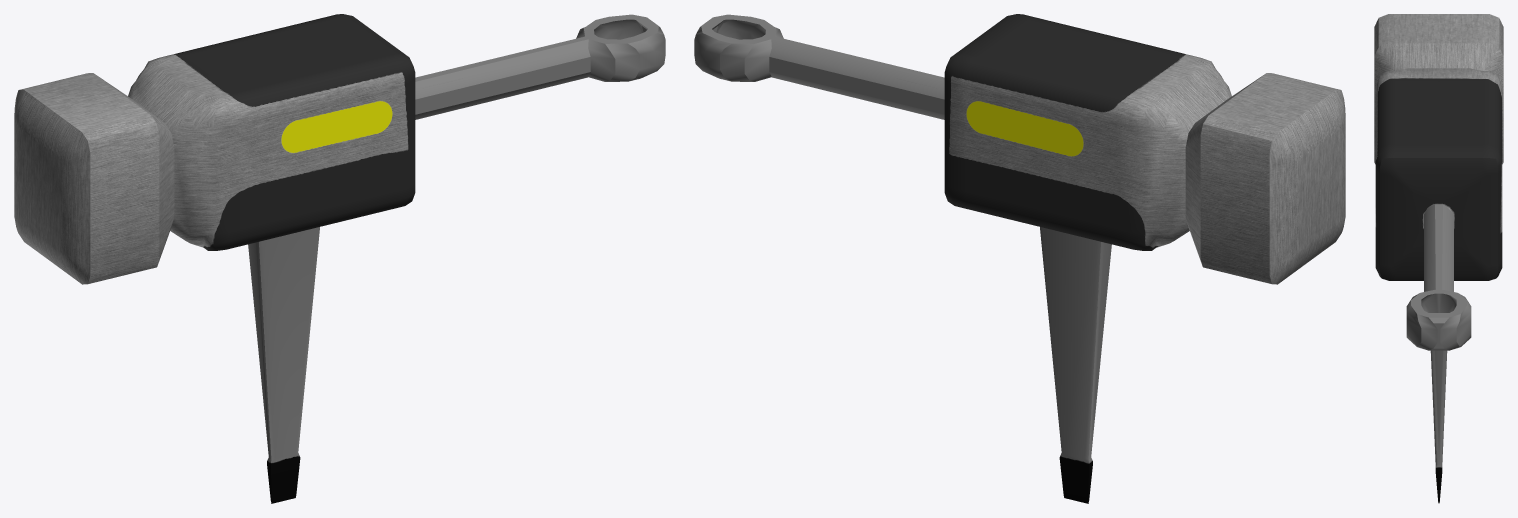
Rendered from HammerEmbedTrue.fbx.
3 renders of one model, left to right at view 1: azimuth 30°, elevation 25°; view 2: azimuth 150°, elevation 25°; view 3: azimuth 270°, elevation 25°, orthographic. The views are drawn at different scales.
Visible parts, largest first — view 1: Box001; view 2: Box001; view 3: Box001.
Boxes of the visible parts, box(x1,y1,x2,y2) form: Box001: box(14, 14, 665, 503); Box001: box(694, 14, 1345, 503); Box001: box(1374, 14, 1503, 503).
Bounding box in the file's own units: 91.65 × 63.29 × 19.11.
Materials: 1 (1 with a texture image).
